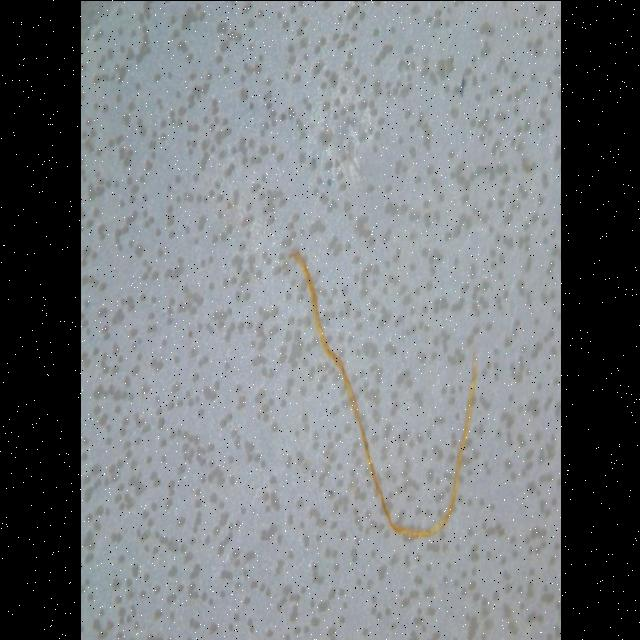Fibre: (286, 248, 478, 540)
